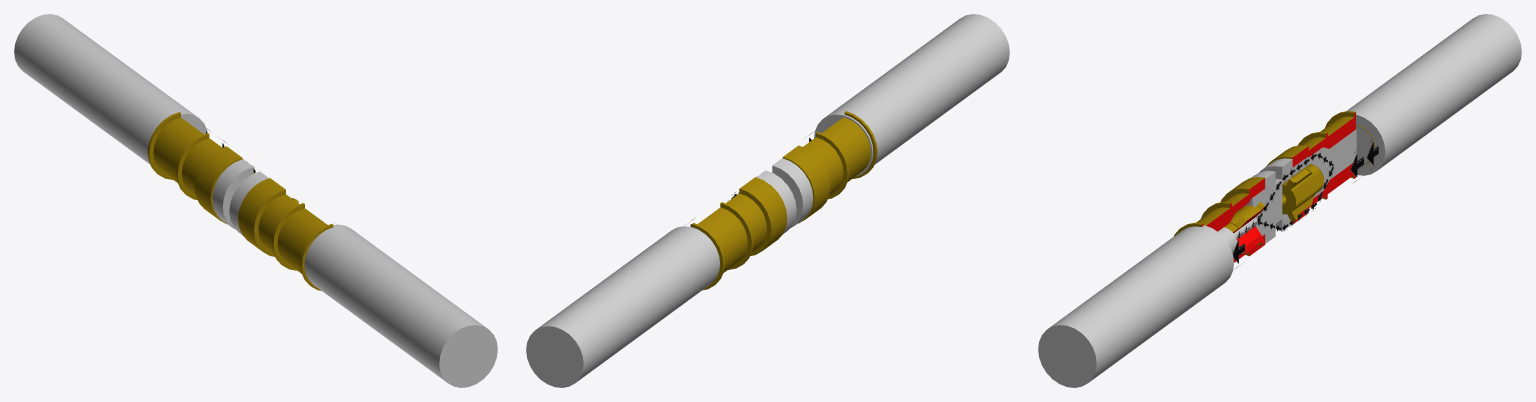
Rendered from Restrictor.fbx.
3 views of the same model, side by side, from view 1: azimuth 30°, elevation 25°; view 2: azimuth 150°, elevation 25°; view 3: azimuth 330°, elevation 25° (orthographic).
Parts seen in each view (by area): view 1: restrictor_Flow Left, restrictor_Flow, stitch_result_stitch all.1445, stitch_result_stitch all.1444, restrictor_Insert_02_Flow; view 2: restrictor_Flow, restrictor_Flow Left, stitch_result_stitch all.1444, stitch_result_stitch all.1445, restrictor_Insert_02_Flow; view 3: restrictor_Flow Left, restrictor_Flow, stitch_result_stitch all.1444, restrictor_Insert_02_Flow, stitch_result_stitch all.1445, stitch_result_stitch all.1446, Restrictor, stitch_result_stitch all.1447.
Boxes of the visible parts, x1,y1,x2,y2 form: restrictor_Flow Left: (304, 224, 497, 387); restrictor_Flow: (14, 14, 207, 164); stitch_result_stitch all.1445: (238, 178, 333, 290); stitch_result_stitch all.1444: (147, 112, 242, 224); restrictor_Insert_02_Flow: (212, 159, 268, 234); restrictor_Flow: (526, 226, 719, 387); restrictor_Flow Left: (814, 14, 1009, 176); stitch_result_stitch all.1444: (692, 177, 787, 290); stitch_result_stitch all.1445: (782, 111, 877, 223); restrictor_Insert_02_Flow: (756, 158, 813, 233); restrictor_Flow Left: (1038, 217, 1257, 387); restrictor_Flow: (1347, 14, 1521, 175); stitch_result_stitch all.1444: (1266, 111, 1355, 224); restrictor_Insert_02_Flow: (1244, 158, 1292, 243); stitch_result_stitch all.1445: (1174, 177, 1265, 262); stitch_result_stitch all.1446: (1282, 164, 1323, 221); Restrictor: (1292, 129, 1356, 197); stitch_result_stitch all.1447: (1224, 202, 1265, 253).
Size of the model in its own units: 0.0112 by 0.0117 by 0.1344.
